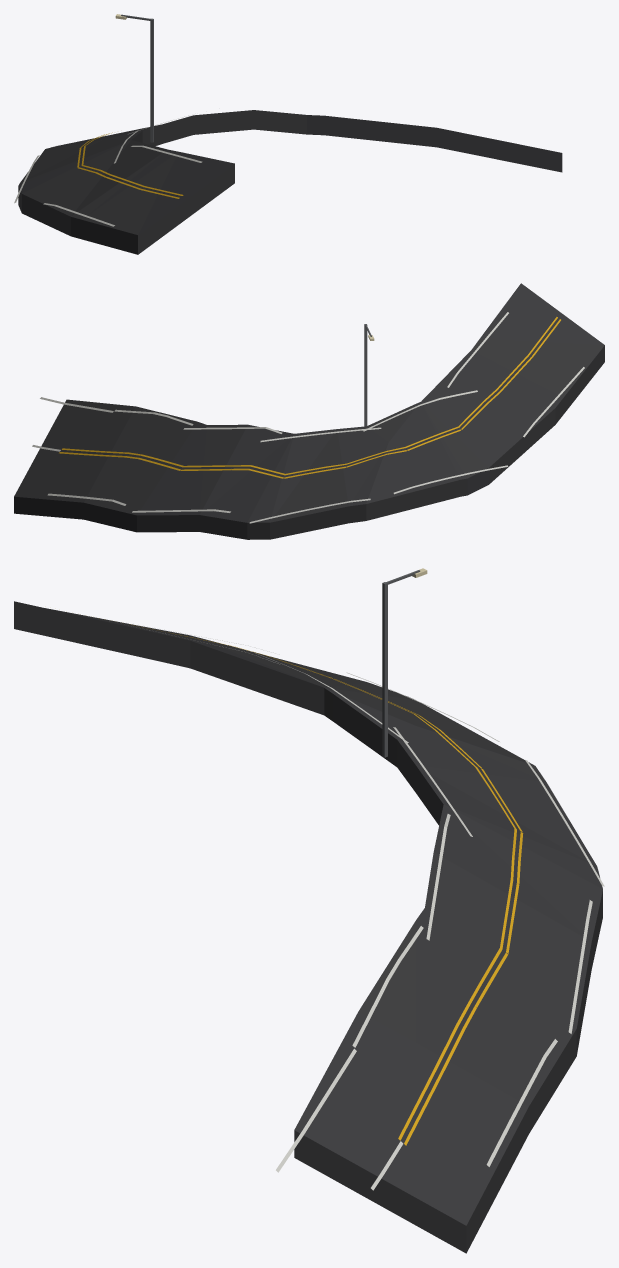
3 views of the same model, one above another, from view 1: azimuth 30°, elevation 25°; view 2: azimuth 150°, elevation 25°; view 3: azimuth 270°, elevation 25° (orthographic). The views are drawn at different scales.
Bounding box in the file's own units: 36.22 × 17.72 × 23.16.
